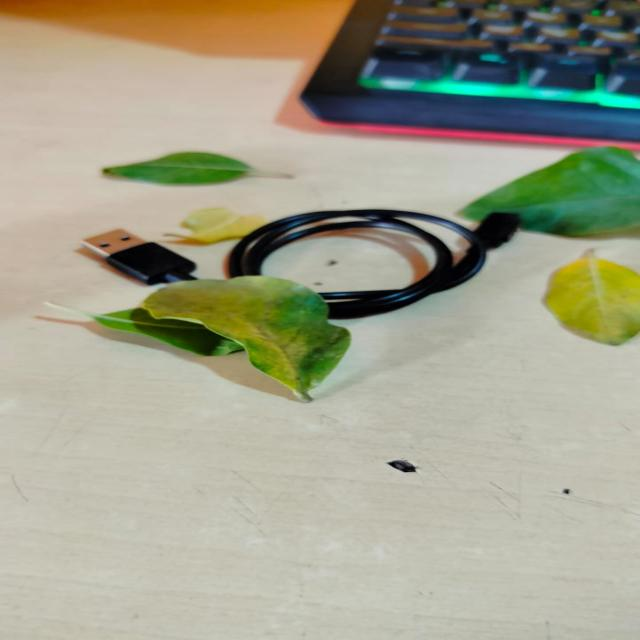Leaves: (99, 277, 352, 402), (461, 148, 640, 240), (542, 255, 640, 348), (99, 151, 273, 190), (163, 205, 270, 248)
